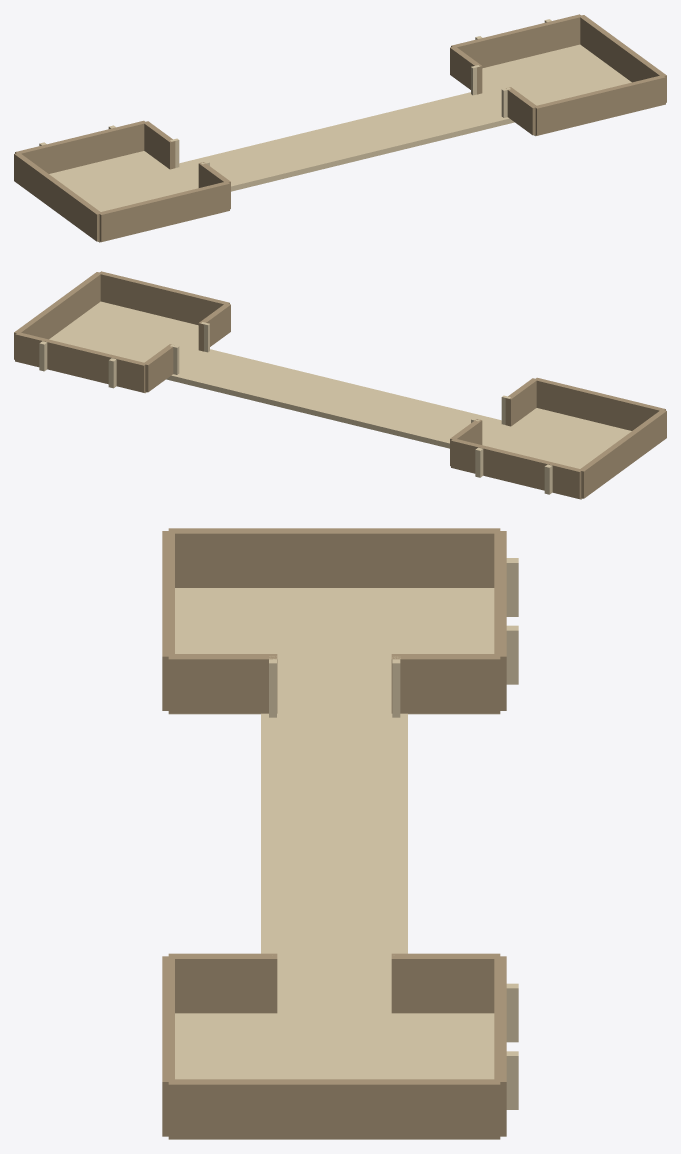
The model's file is Royal_Gatehouse.fbx.
The picture shows the model from 3 angles, top to bottom: view 1: azimuth 30°, elevation 25°; view 2: azimuth 150°, elevation 25°; view 3: azimuth 270°, elevation 25°; orthographic projection. The views are drawn at different scales.
Visible parts, largest first — view 1: OpenBuildings_Royal_Gatehouse; view 2: OpenBuildings_Royal_Gatehouse; view 3: OpenBuildings_Royal_Gatehouse.
Boxes of the visible parts, x1,y1,x2,y2 form: OpenBuildings_Royal_Gatehouse: (14,14,666,242); OpenBuildings_Royal_Gatehouse: (14,271,666,499); OpenBuildings_Royal_Gatehouse: (162,528,518,1139).
Bounding box in the file's own units: 23.02 × 1.25 × 6.22.
